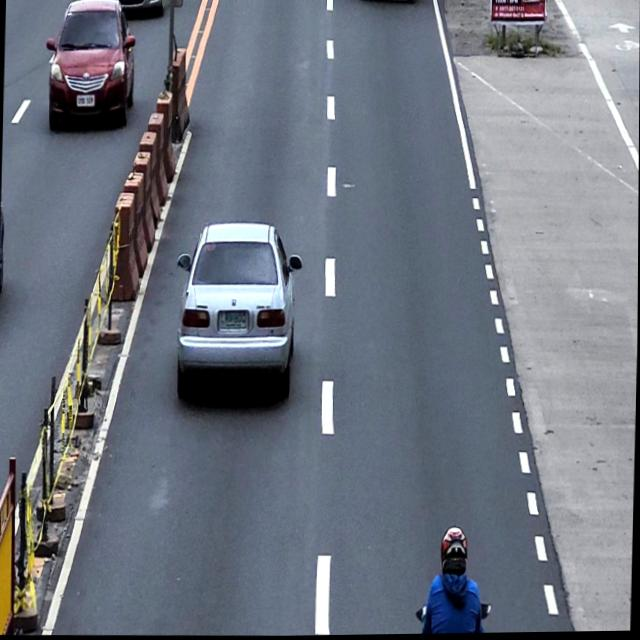Car: (173, 219, 303, 401), (43, 0, 136, 131)
License-Plate: (219, 308, 249, 331), (76, 94, 96, 107)
Motorcycle: (414, 601, 491, 635)
